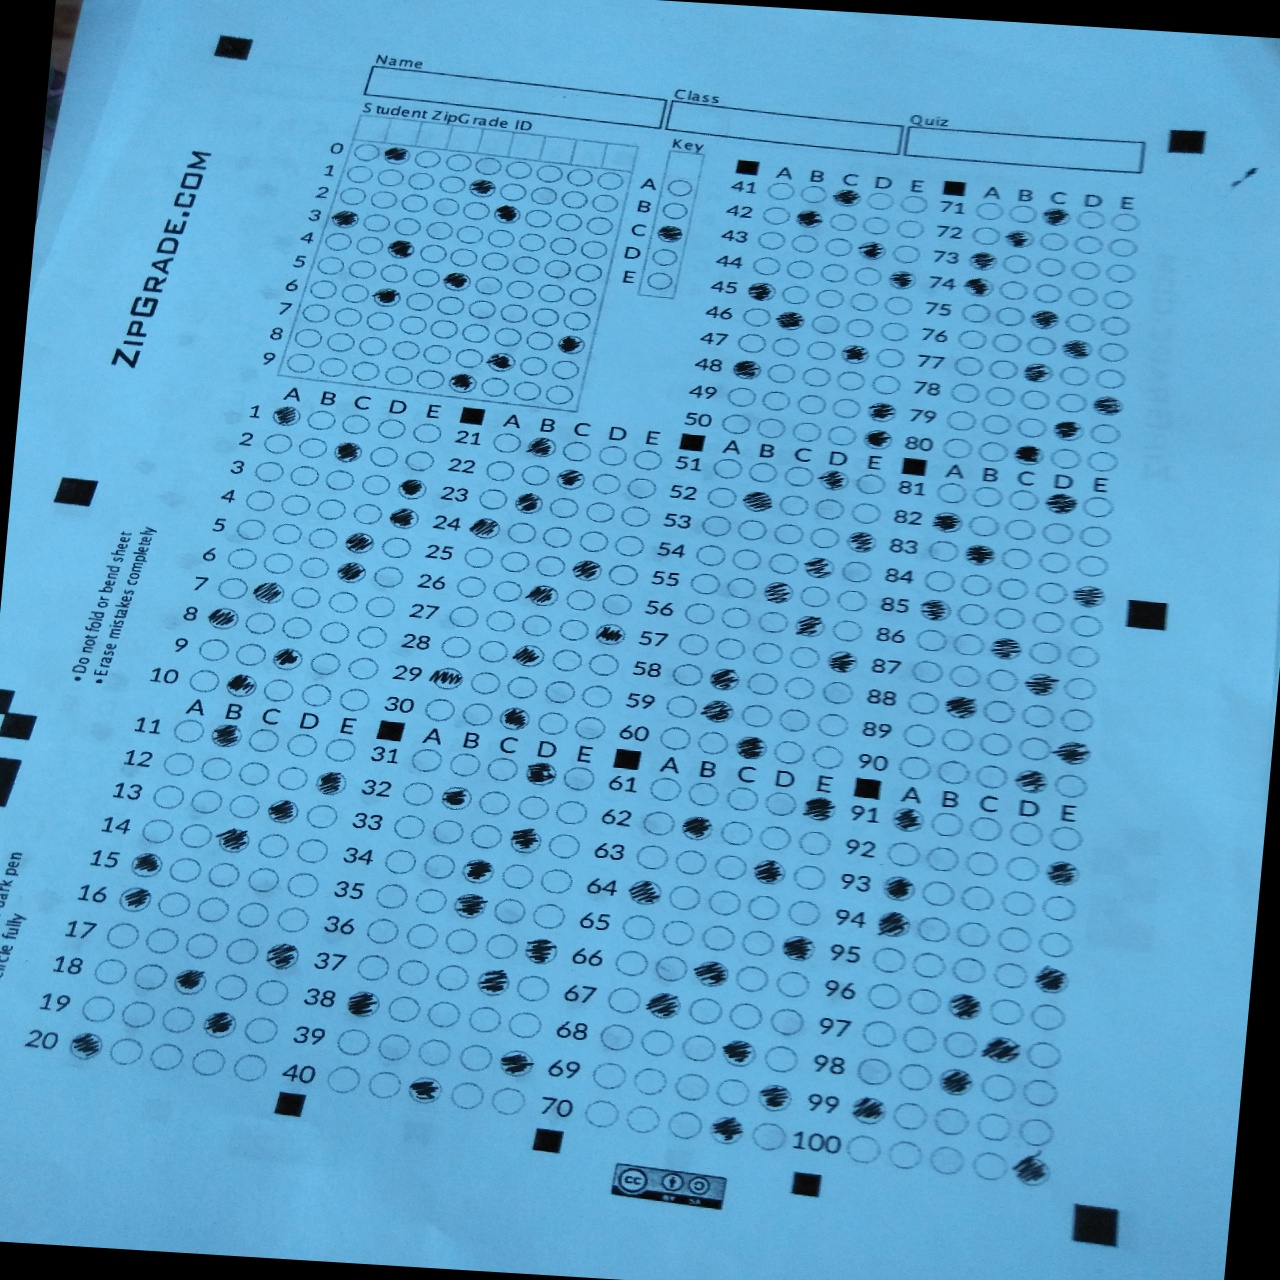not-c: (931, 1104, 973, 1138), (1014, 1116, 1057, 1149), (765, 1005, 805, 1039), (967, 813, 1006, 847), (748, 1121, 788, 1153), (629, 1065, 669, 1098), (602, 985, 642, 1017), (665, 881, 704, 914), (645, 774, 685, 806), (995, 922, 1035, 955), (864, 979, 904, 1012), (697, 922, 738, 954), (908, 949, 949, 981), (894, 1061, 935, 1092), (842, 1133, 883, 1165), (672, 844, 710, 877), (723, 783, 762, 816), (928, 808, 967, 840), (1047, 822, 1085, 855), (990, 958, 1029, 990), (665, 1109, 704, 1141), (670, 1071, 710, 1103), (679, 1032, 719, 1063), (772, 969, 812, 1001), (704, 887, 744, 919), (632, 842, 672, 873), (638, 808, 678, 839), (924, 842, 964, 873), (978, 1073, 1017, 1104), (926, 1144, 966, 1176), (712, 1077, 753, 1108), (610, 949, 651, 980), (731, 964, 772, 994), (881, 838, 922, 869), (1019, 1077, 1060, 1108), (853, 1056, 894, 1087), (884, 1139, 925, 1170), (969, 1151, 1010, 1182), (785, 897, 823, 930), (474, 787, 512, 818), (155, 888, 193, 920), (182, 930, 220, 961), (488, 1085, 526, 1117), (353, 952, 392, 983), (591, 1060, 629, 1091), (618, 911, 656, 942), (659, 918, 697, 949), (756, 823, 795, 855), (685, 779, 723, 811), (761, 789, 799, 821), (958, 881, 996, 913), (962, 849, 1001, 880), (1036, 930, 1075, 961), (953, 918, 992, 949), (871, 944, 910, 975), (904, 986, 942, 1017), (860, 1017, 899, 1049), (622, 1103, 662, 1133), (638, 1028, 678, 1058), (761, 1044, 801, 1075), (727, 1001, 767, 1032), (710, 851, 750, 881), (1006, 819, 1046, 850), (1003, 853, 1043, 884), (1000, 887, 1040, 918), (1040, 892, 1080, 922), (986, 996, 1026, 1027), (1028, 1001, 1068, 1032), (890, 1099, 930, 1130), (973, 1111, 1013, 1142), (245, 864, 282, 896), (399, 779, 436, 811), (483, 754, 520, 785), (190, 1046, 227, 1077), (325, 1064, 362, 1096), (333, 1027, 370, 1058), (362, 915, 400, 947), (425, 999, 463, 1030), (791, 862, 829, 893), (797, 829, 835, 860), (919, 877, 956, 908), (915, 912, 953, 944), (901, 1023, 939, 1055), (1024, 1039, 1062, 1070), (282, 870, 321, 900), (530, 900, 568, 931), (467, 822, 505, 852), (411, 886, 450, 917), (241, 1014, 280, 1044), (481, 931, 519, 961), (583, 1098, 621, 1129), (598, 1022, 636, 1053), (652, 954, 690, 985), (687, 995, 726, 1026), (738, 930, 777, 960), (716, 817, 755, 847), (949, 955, 988, 986), (939, 1028, 978, 1058), (983, 665, 1022, 695), (1017, 701, 1056, 731), (538, 864, 574, 896), (120, 998, 156, 1029), (515, 973, 551, 1005), (204, 860, 241, 891), (545, 831, 583, 862), (420, 851, 457, 881), (143, 926, 181, 956), (80, 994, 117, 1024), (108, 1035, 145, 1065), (148, 1042, 185, 1073), (223, 937, 260, 967), (274, 905, 312, 935), (415, 1037, 452, 1068), (448, 1080, 485, 1110), (443, 926, 481, 956), (395, 958, 433, 988), (433, 964, 470, 994), (386, 994, 423, 1024), (366, 1069, 403, 1099), (744, 892, 782, 922), (899, 721, 937, 751), (1058, 706, 1096, 736), (809, 742, 846, 772), (663, 692, 701, 722), (921, 565, 959, 595), (896, 754, 934, 783), (904, 687, 942, 716), (769, 736, 808, 765), (712, 634, 750, 663), (213, 971, 248, 1002), (373, 881, 409, 912), (382, 847, 418, 878), (409, 745, 445, 776), (445, 749, 482, 779), (492, 896, 529, 926), (430, 817, 467, 847), (93, 956, 129, 987), (161, 1005, 197, 1035), (253, 978, 290, 1008), (232, 1053, 268, 1083), (375, 1032, 411, 1062), (467, 1005, 503, 1035), (947, 661, 983, 692), (669, 661, 706, 692), (515, 794, 552, 823), (233, 900, 271, 930), (506, 1012, 544, 1041), (973, 762, 1010, 791), (939, 727, 976, 756), (978, 729, 1015, 758), (1016, 733, 1054, 762), (1061, 674, 1098, 703), (1064, 642, 1102, 672), (694, 729, 731, 758), (674, 629, 712, 659), (680, 600, 719, 628), (829, 617, 867, 645), (560, 763, 595, 794), (553, 798, 588, 829), (499, 862, 535, 892), (166, 855, 203, 884), (104, 921, 141, 951), (132, 962, 169, 992), (196, 896, 232, 925), (458, 1044, 495, 1074), (403, 921, 440, 951), (934, 757, 971, 787), (908, 658, 945, 687), (658, 723, 694, 753), (750, 639, 787, 668), (787, 641, 823, 670), (913, 626, 949, 655), (1053, 772, 1090, 801), (737, 702, 775, 730), (743, 670, 781, 699), (392, 812, 427, 842), (294, 837, 331, 865), (981, 697, 1017, 726), (781, 674, 817, 702), (776, 707, 812, 735), (755, 608, 791, 636), (813, 712, 851, 738), (692, 542, 729, 568), (949, 631, 987, 658), (811, 496, 849, 523), (796, 584, 835, 610), (299, 681, 334, 709), (422, 696, 457, 724), (452, 574, 488, 602), (284, 731, 319, 760), (821, 678, 856, 706), (719, 605, 754, 633), (586, 652, 622, 679), (178, 823, 215, 850), (226, 794, 263, 821), (934, 481, 971, 508), (1080, 493, 1116, 520), (687, 570, 724, 595), (1026, 641, 1063, 667), (954, 601, 992, 627), (999, 546, 1036, 572), (965, 515, 1002, 540), (696, 513, 734, 539), (745, 459, 783, 485), (579, 682, 613, 710), (554, 617, 588, 645), (336, 686, 372, 713), (260, 678, 295, 704), (172, 719, 207, 745), (543, 678, 578, 704), (505, 674, 540, 701), (467, 670, 502, 697), (475, 638, 510, 665), (550, 648, 585, 675), (519, 613, 554, 640), (483, 608, 518, 635), (445, 602, 481, 629), (489, 579, 524, 606), (246, 727, 281, 754), (322, 737, 358, 764), (275, 765, 311, 792), (237, 761, 272, 788), (199, 755, 234, 782), (139, 818, 175, 845), (188, 788, 223, 815), (304, 803, 339, 830), (723, 574, 760, 600), (729, 546, 765, 572), (838, 559, 874, 585), (1030, 610, 1067, 635), (1068, 614, 1104, 640), (990, 606, 1027, 632), (958, 572, 994, 598), (994, 576, 1030, 601), (1034, 579, 1070, 605), (1036, 550, 1073, 576), (1002, 517, 1039, 543), (1005, 486, 1041, 512), (1077, 523, 1114, 549), (1037, 520, 1074, 546), (1074, 553, 1110, 579), (926, 538, 962, 564), (808, 524, 844, 550), (771, 520, 808, 546), (733, 517, 769, 543), (777, 493, 813, 519), (847, 501, 884, 526), (852, 471, 888, 497), (782, 464, 818, 490), (709, 455, 745, 481), (297, 554, 331, 581), (326, 588, 360, 615), (243, 610, 277, 636), (196, 636, 230, 663), (188, 667, 222, 694), (459, 700, 493, 727), (535, 709, 568, 736), (573, 715, 607, 742), (440, 634, 474, 661), (561, 586, 595, 613), (606, 561, 640, 588), (162, 751, 196, 778), (152, 783, 186, 810), (257, 832, 291, 859), (598, 591, 633, 617), (833, 588, 869, 614), (765, 551, 801, 577), (969, 482, 1005, 508), (704, 486, 740, 512), (309, 651, 342, 678), (243, 488, 277, 513), (234, 516, 268, 542), (216, 576, 250, 601), (280, 614, 314, 640), (535, 554, 568, 580), (547, 495, 581, 520), (595, 444, 629, 470), (734, 331, 768, 356), (1084, 448, 1118, 474), (1064, 311, 1098, 336), (1067, 284, 1101, 309), (1039, 229, 1073, 254), (758, 203, 792, 229), (942, 409, 978, 434), (1057, 363, 1092, 388), (862, 189, 898, 212), (270, 520, 302, 546), (380, 535, 413, 560), (498, 549, 531, 574), (577, 529, 610, 554), (476, 486, 509, 512), (483, 458, 516, 484), (519, 461, 552, 486), (631, 447, 663, 472), (720, 411, 753, 437), (789, 418, 822, 444), (873, 346, 906, 372), (796, 392, 829, 417), (805, 338, 838, 363), (740, 304, 772, 329), (809, 312, 842, 338), (1098, 312, 1131, 338), (1107, 234, 1139, 260), (784, 257, 817, 282), (796, 181, 829, 206), (338, 413, 372, 437), (350, 501, 384, 525), (306, 526, 340, 551), (373, 565, 407, 590), (290, 585, 324, 610), (363, 594, 397, 619), (345, 656, 379, 681), (461, 545, 495, 570), (611, 533, 645, 558), (583, 501, 617, 525), (560, 440, 594, 464), (824, 423, 858, 448), (835, 369, 869, 394), (723, 384, 757, 409), (764, 360, 798, 384), (770, 335, 804, 360), (840, 316, 874, 341), (876, 319, 910, 343), (847, 290, 881, 314), (813, 285, 847, 309), (779, 281, 813, 306), (942, 435, 976, 459), (975, 440, 1009, 464), (989, 329, 1023, 354), (1017, 387, 1051, 411), (1016, 416, 1050, 441), (1049, 445, 1083, 470), (1088, 421, 1122, 445), (1092, 367, 1126, 392), (1096, 341, 1130, 366), (1024, 333, 1058, 358), (1032, 282, 1065, 307), (1032, 254, 1065, 279), (1075, 207, 1109, 232), (1071, 232, 1105, 257), (969, 224, 1003, 248), (972, 198, 1006, 223), (1006, 202, 1040, 226), (852, 265, 886, 290), (750, 253, 784, 278), (305, 408, 338, 433), (324, 468, 356, 492), (261, 551, 294, 576), (225, 547, 258, 572), (355, 625, 388, 649), (318, 620, 350, 645), (234, 641, 267, 666), (504, 520, 537, 545), (540, 525, 573, 550), (619, 505, 652, 530), (590, 472, 622, 497), (626, 476, 659, 501), (755, 416, 788, 441), (831, 396, 864, 421), (870, 374, 903, 399), (760, 387, 792, 411), (799, 365, 832, 389), (955, 327, 988, 352), (959, 302, 992, 327), (994, 304, 1027, 328), (987, 356, 1020, 381), (983, 384, 1016, 409), (1067, 257, 1099, 281), (1102, 260, 1135, 285), (1110, 210, 1143, 234), (297, 436, 331, 459), (489, 430, 523, 454), (880, 293, 914, 316), (979, 413, 1013, 436), (1054, 392, 1088, 415), (1101, 288, 1135, 312), (1000, 253, 1034, 277), (754, 229, 788, 252), (763, 179, 797, 203), (411, 421, 443, 445), (404, 449, 436, 474), (367, 444, 400, 468), (315, 498, 348, 522), (949, 382, 982, 406), (953, 355, 986, 379), (998, 278, 1030, 301), (826, 211, 859, 234), (584, 215, 615, 238), (423, 218, 455, 241), (397, 314, 429, 338), (325, 331, 356, 354), (252, 459, 284, 483), (288, 463, 320, 486), (452, 223, 485, 245), (374, 417, 407, 440), (261, 433, 294, 455), (359, 474, 392, 496), (819, 261, 852, 284), (898, 193, 931, 216), (859, 215, 892, 237), (892, 218, 925, 240), (890, 243, 922, 265), (472, 154, 503, 177), (567, 286, 598, 309), (322, 231, 353, 254), (308, 278, 339, 301), (467, 298, 497, 321), (389, 339, 420, 362), (511, 380, 542, 403), (411, 148, 443, 170), (564, 166, 595, 189), (343, 163, 375, 185), (459, 199, 491, 222), (523, 207, 554, 230), (663, 178, 695, 200), (485, 226, 517, 248), (392, 216, 423, 238), (339, 281, 370, 304), (536, 281, 567, 304), (529, 307, 560, 329), (365, 309, 396, 332), (333, 306, 365, 328), (292, 326, 324, 348), (421, 342, 452, 365), (452, 348, 484, 370), (549, 358, 580, 380), (285, 352, 316, 374), (280, 493, 312, 516), (824, 234, 856, 257), (443, 151, 474, 173), (535, 162, 565, 184), (588, 192, 619, 215), (558, 189, 588, 211), (497, 181, 527, 203), (406, 170, 436, 192), (375, 166, 406, 189), (338, 185, 368, 207), (368, 189, 399, 211), (553, 210, 584, 232), (644, 270, 674, 292), (517, 232, 547, 254), (362, 211, 393, 233), (417, 243, 448, 265), (479, 250, 510, 272), (542, 258, 572, 280), (504, 278, 535, 300), (404, 291, 435, 313), (561, 311, 592, 333), (429, 316, 459, 339), (479, 376, 510, 399), (415, 369, 445, 392), (349, 360, 380, 382), (318, 356, 348, 379), (350, 142, 382, 163), (503, 159, 535, 181), (527, 185, 559, 206), (399, 193, 430, 215), (660, 200, 692, 222), (578, 239, 610, 260), (379, 263, 410, 284), (448, 247, 479, 268), (573, 261, 605, 282), (435, 295, 467, 316), (492, 327, 524, 348), (544, 384, 576, 406), (789, 233, 821, 254), (438, 173, 468, 196), (549, 234, 578, 257), (519, 355, 549, 377), (356, 335, 386, 358), (595, 170, 626, 191), (651, 247, 681, 268), (355, 234, 386, 256), (346, 258, 376, 279), (411, 268, 442, 290), (474, 275, 504, 297), (497, 302, 527, 324), (383, 365, 414, 386), (459, 324, 491, 343), (431, 196, 461, 217), (512, 254, 542, 275), (301, 302, 331, 324), (315, 256, 346, 275), (524, 331, 554, 350)
taken-c: (1010, 1155, 1055, 1190), (944, 990, 988, 1024), (1029, 965, 1074, 996), (982, 1033, 1023, 1067), (707, 1112, 747, 1146), (849, 1095, 888, 1129), (878, 871, 920, 903), (937, 1065, 975, 1099), (406, 1073, 445, 1105), (64, 1030, 105, 1062), (474, 967, 515, 999), (520, 937, 561, 968), (448, 890, 489, 921), (457, 857, 498, 888), (505, 825, 546, 857), (520, 760, 561, 791), (1010, 765, 1051, 797), (942, 693, 983, 724), (1054, 738, 1096, 769), (263, 941, 302, 973), (343, 989, 383, 1021), (874, 908, 914, 940), (170, 967, 211, 998), (199, 1010, 240, 1041), (493, 704, 535, 735), (1043, 857, 1084, 887), (1021, 668, 1062, 699), (987, 634, 1028, 665), (886, 806, 928, 836), (497, 1047, 536, 1078), (435, 784, 475, 815), (778, 933, 818, 964), (625, 878, 663, 908), (755, 1083, 794, 1114), (750, 857, 790, 886), (720, 1039, 760, 1068), (115, 884, 154, 913), (733, 734, 771, 763), (801, 794, 839, 823), (679, 813, 717, 843), (646, 990, 685, 1020), (205, 604, 243, 633), (270, 645, 307, 674), (127, 851, 164, 880), (694, 960, 731, 989), (215, 826, 253, 855), (917, 597, 955, 625), (1071, 583, 1110, 611), (930, 508, 968, 536), (251, 579, 288, 607), (223, 672, 260, 700), (312, 769, 349, 797), (265, 797, 302, 825), (467, 515, 504, 543), (962, 543, 1000, 571), (509, 642, 545, 670), (509, 490, 545, 518), (794, 612, 830, 640), (701, 697, 737, 726), (209, 722, 246, 749), (1049, 417, 1087, 444), (430, 663, 465, 692), (592, 621, 627, 649), (568, 557, 604, 585), (522, 433, 557, 461), (525, 583, 561, 610), (801, 554, 837, 581), (825, 649, 862, 676), (1027, 307, 1063, 334), (760, 579, 797, 605), (708, 666, 745, 692), (1019, 360, 1056, 386), (1058, 336, 1096, 362), (551, 467, 586, 493), (1003, 225, 1039, 252), (1043, 492, 1080, 518), (1090, 393, 1126, 418), (960, 275, 996, 301), (965, 247, 1001, 273), (741, 488, 775, 515), (386, 505, 421, 531), (729, 356, 764, 382), (860, 427, 896, 452), (844, 529, 879, 554), (1012, 443, 1047, 469), (1037, 205, 1073, 231), (343, 530, 377, 556), (334, 559, 368, 585), (837, 340, 871, 366), (791, 207, 826, 232), (853, 238, 888, 263), (885, 268, 920, 293), (742, 279, 777, 304), (864, 399, 899, 423), (816, 469, 851, 493), (653, 222, 687, 246), (331, 440, 365, 464), (830, 184, 864, 209), (772, 308, 806, 333), (270, 404, 302, 429), (395, 477, 428, 502), (447, 370, 481, 394), (485, 350, 518, 374), (386, 238, 417, 261), (442, 270, 474, 293), (381, 144, 414, 166), (465, 177, 498, 199), (372, 287, 404, 309), (491, 203, 523, 225), (331, 207, 362, 230), (556, 334, 587, 356)
